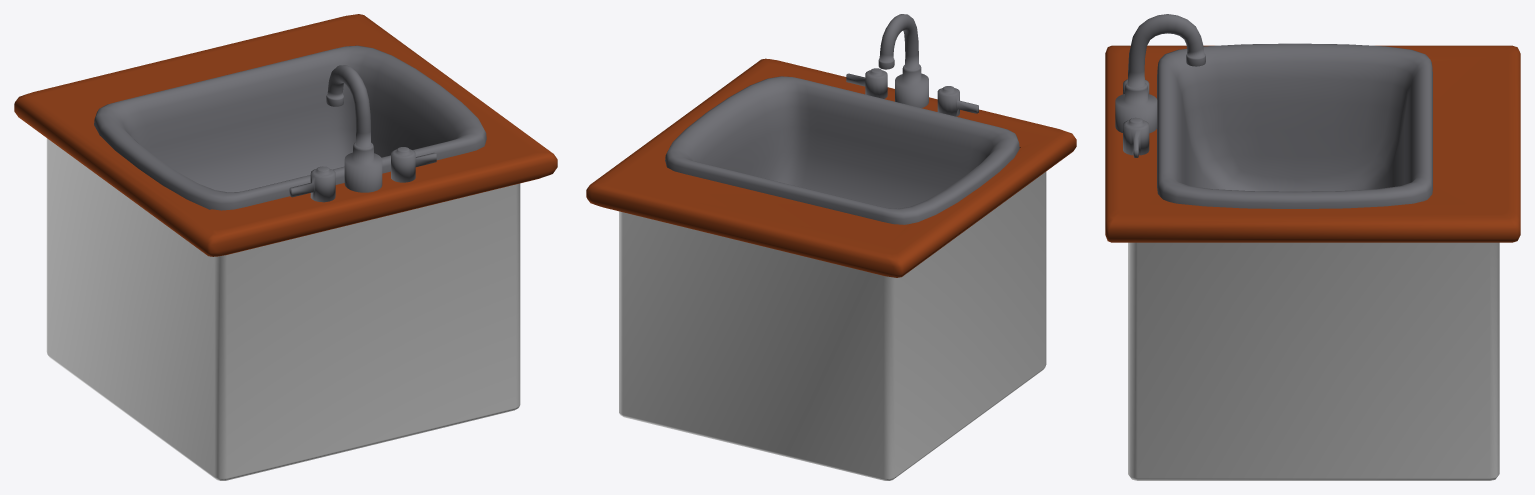
Rendered from BenchSink.glb.
3 views of the same model, side by side, from view 1: azimuth 30°, elevation 25°; view 2: azimuth 150°, elevation 25°; view 3: azimuth 270°, elevation 25° (orthographic). The views are drawn at different scales.
Parts seen in each view (by area): view 1: Cube.003; view 2: Cube.003; view 3: Cube.003.
Boxes of the visible parts, x1,y1,x2,y2 form: Cube.003: (14,14,557,480); Cube.003: (586,14,1076,480); Cube.003: (1105,14,1520,480).
Size of the model in its own units: 0.9205 by 0.9248 by 0.8961.
